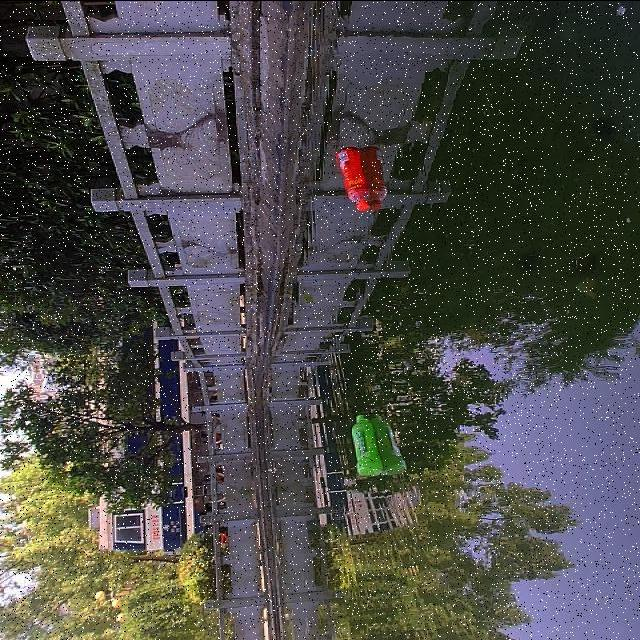Bottle: (327, 140, 378, 217), (346, 406, 388, 480)
